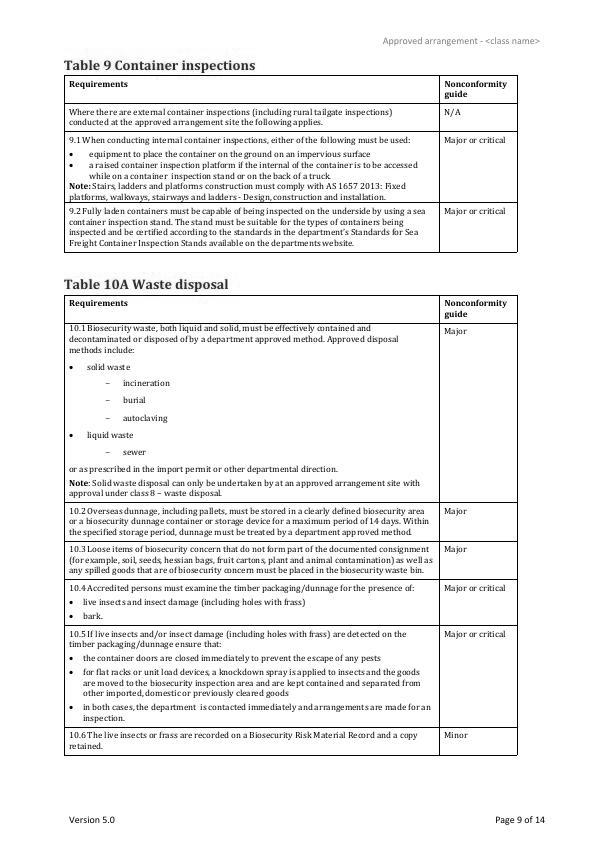table: (59, 293, 525, 762), (61, 71, 524, 255)
text: (62, 57, 258, 73), (63, 277, 229, 292)
